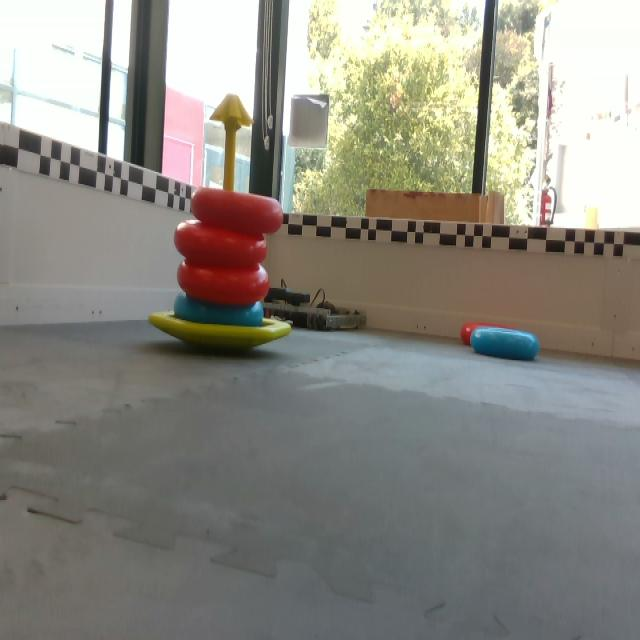Blue-Ring: (174, 296, 263, 326), (468, 325, 540, 362)
Mobile-Goal: (149, 91, 291, 349)
Red-Ring: (191, 187, 287, 234), (177, 260, 270, 304), (175, 220, 266, 264), (460, 322, 478, 348)
Yellow-Stake-Head: (211, 94, 254, 125)
